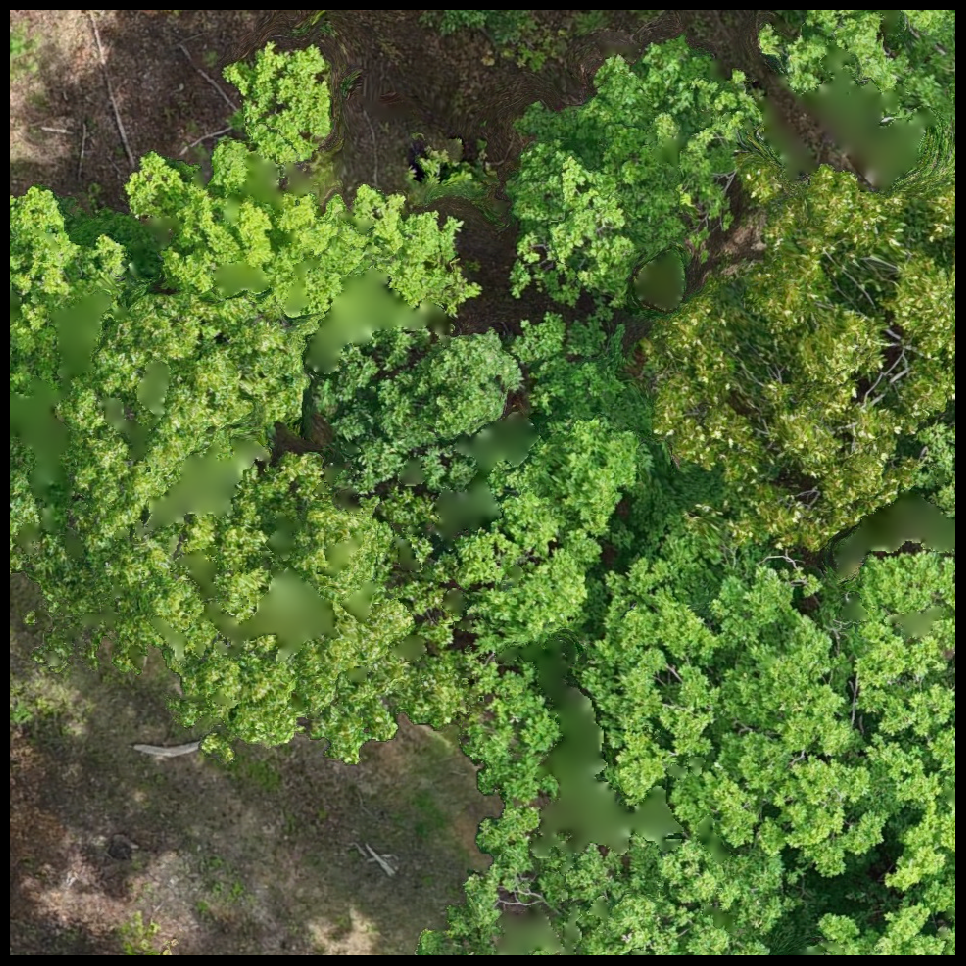Tree: (57, 42, 463, 319), (651, 181, 965, 532), (13, 285, 303, 645), (555, 522, 858, 861), (122, 465, 417, 762), (510, 27, 767, 309), (431, 330, 664, 627), (399, 628, 576, 880), (757, 6, 956, 203), (310, 319, 530, 486), (837, 545, 965, 831), (498, 833, 793, 955), (810, 842, 953, 964)
